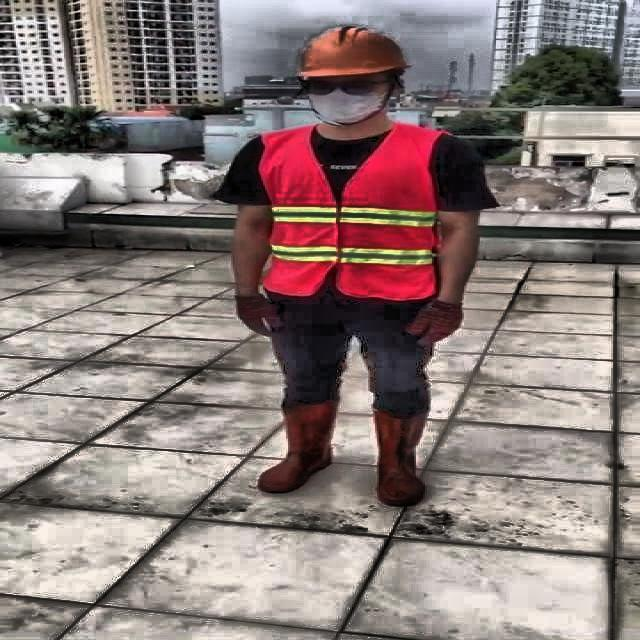safety_helmet: (290, 22, 415, 83)
safety_jacket: (262, 126, 438, 301)
